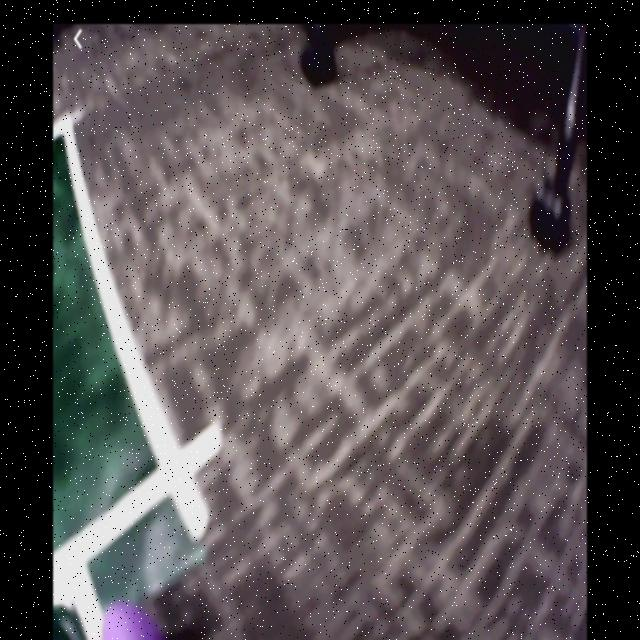ball: (94, 604, 165, 640)
